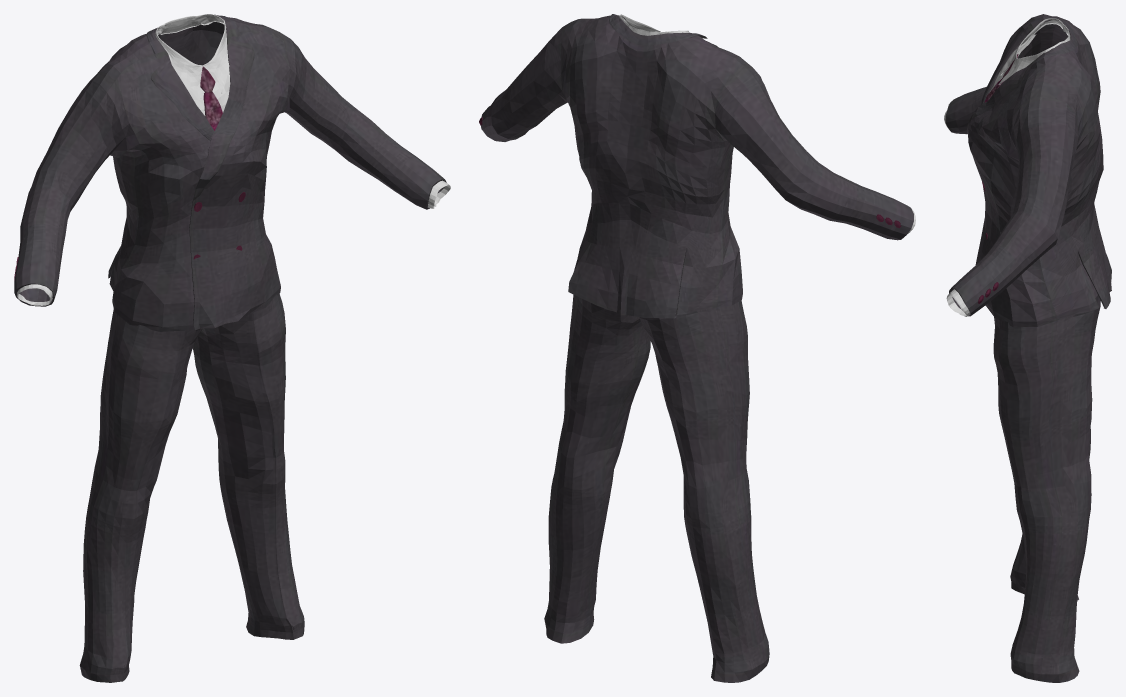
Rendered from mhw_toigo_female_double-breasted_suit.glb.
3 views of the same model, side by side, from view 1: azimuth 30°, elevation 25°; view 2: azimuth 150°, elevation 25°; view 3: azimuth 270°, elevation 25° (orthographic). The views are drawn at different scales.
Visible parts, largest first — view 1: mhw_toigo_female_double-breasted_suit; view 2: mhw_toigo_female_double-breasted_suit; view 3: mhw_toigo_female_double-breasted_suit.
Boxes of the visible parts, bbox=[...] form: mhw_toigo_female_double-breasted_suit: bbox=[14, 14, 450, 682]; mhw_toigo_female_double-breasted_suit: bbox=[479, 14, 915, 682]; mhw_toigo_female_double-breasted_suit: bbox=[944, 14, 1111, 682].
Bounding box in the file's own units: 1.11 × 1.55 × 0.3892.
Materials: 1 (1 with a texture image).
